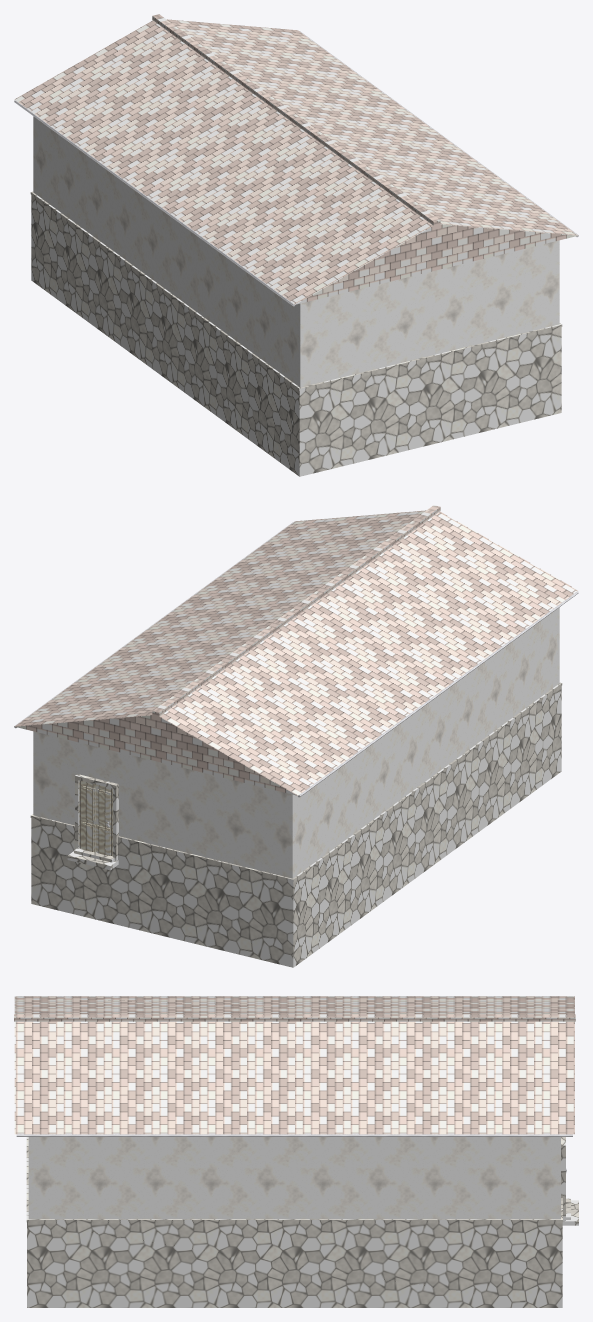
3 views of the same model, one above another, from view 1: azimuth 30°, elevation 25°; view 2: azimuth 150°, elevation 25°; view 3: azimuth 270°, elevation 25° (orthographic).
Visible parts, largest first — view 1: b1085383212; view 2: b1085383212; view 3: b1085383212.
Boxes of the visible parts, <box> form: b1085383212: <box>14,14,578,476</box>; b1085383212: <box>14,505,578,967</box>; b1085383212: <box>14,996,578,1307</box>.
Bounding box in the file's own units: 8.28 × 6.32 × 14.18.
11 materials, 11 textured.
